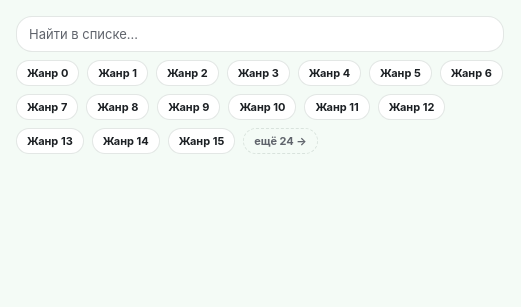
Test case: выбор из справочника › длинный справочник доступен целиком — через «ещё N» и поиск
Click the button "ещё 24 →".
click(281, 141)  # box [243, 128, 318, 154]
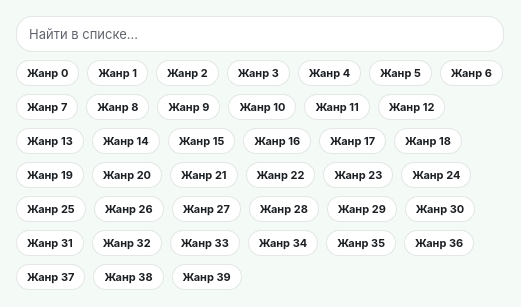
Now the number of buttons with class "chip" is 40
